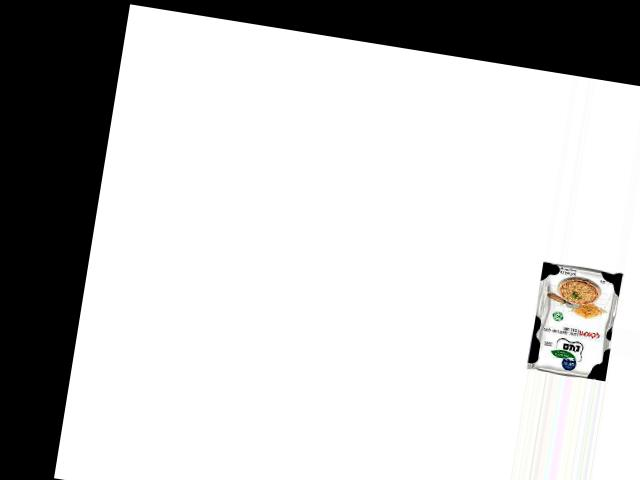cheese: (525, 258, 625, 382)
